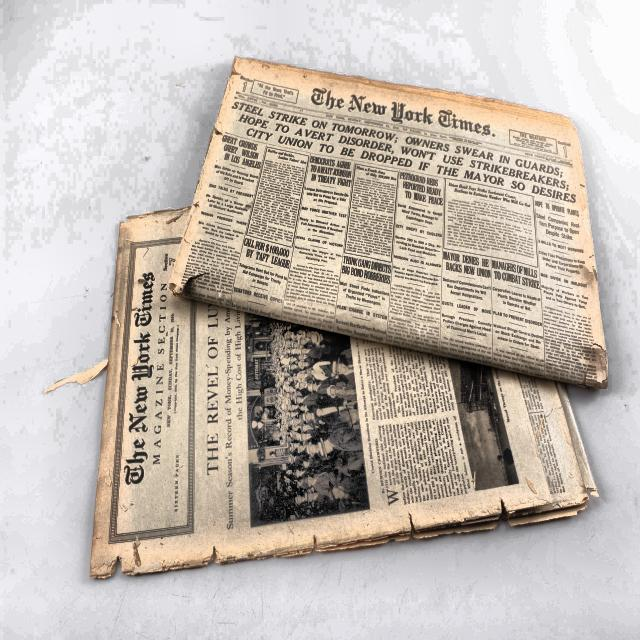Paper: (82, 180, 613, 612), (178, 27, 618, 410)
